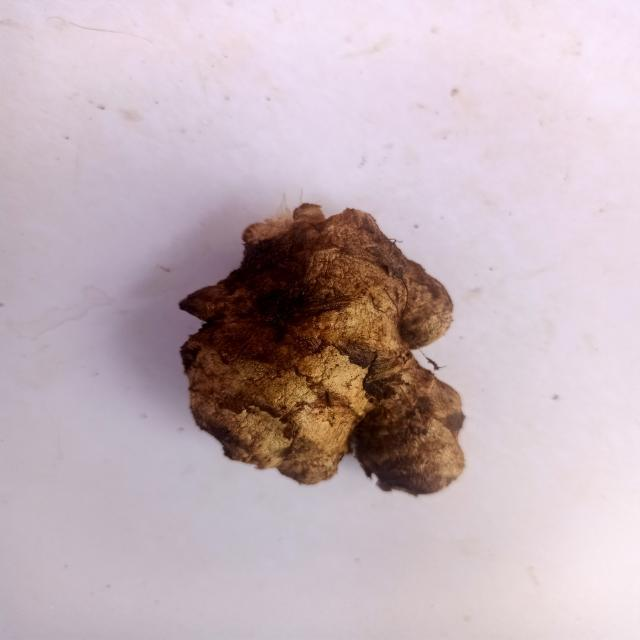Ginger: (156, 184, 489, 506)
